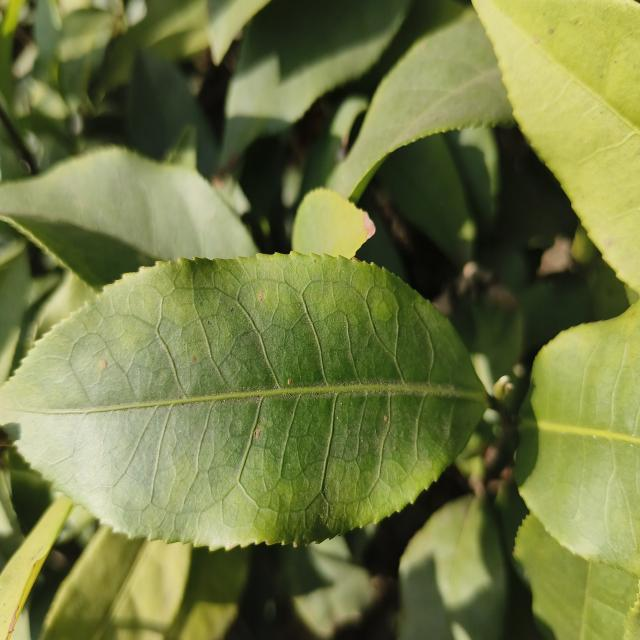Leaf: (0, 254, 486, 547), (474, 0, 640, 291), (326, 7, 513, 202), (0, 146, 258, 287), (515, 303, 640, 577), (220, 0, 409, 166), (41, 526, 192, 640), (399, 495, 507, 640), (515, 514, 639, 640), (377, 134, 476, 267), (127, 50, 218, 180), (0, 496, 73, 640), (167, 547, 249, 640), (292, 188, 375, 259)
